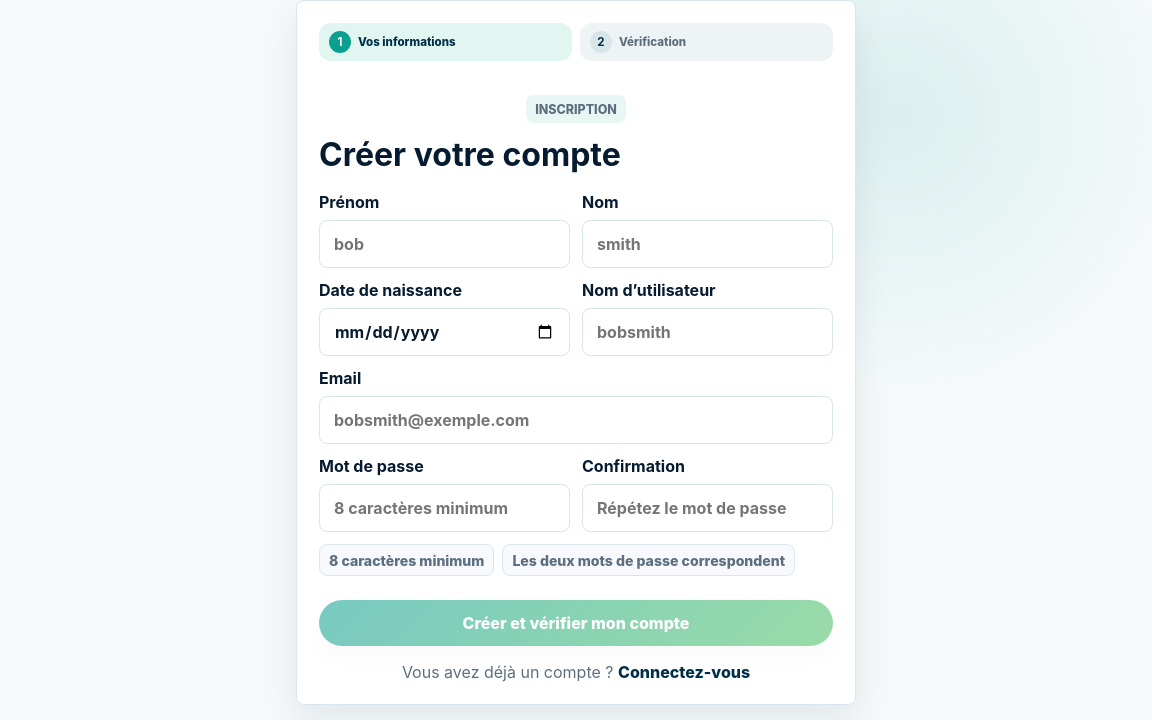
Test: RegisterPage › montre et centre le défi antirobot pendant que Clerk attend sa validation
Type "Alice" into the field labelled "Prénom".
click(444, 244); type("Alice")  # box [319,220,570,268]
Type "Martin" into the field labelled "Nom".
click(708, 244); type("Martin")  # box [582,220,833,268]
Type "2000-01-01" into the date field labelled "Date de naissance".
click(444, 332); type("2000-01-01")  # box [319,308,570,356]
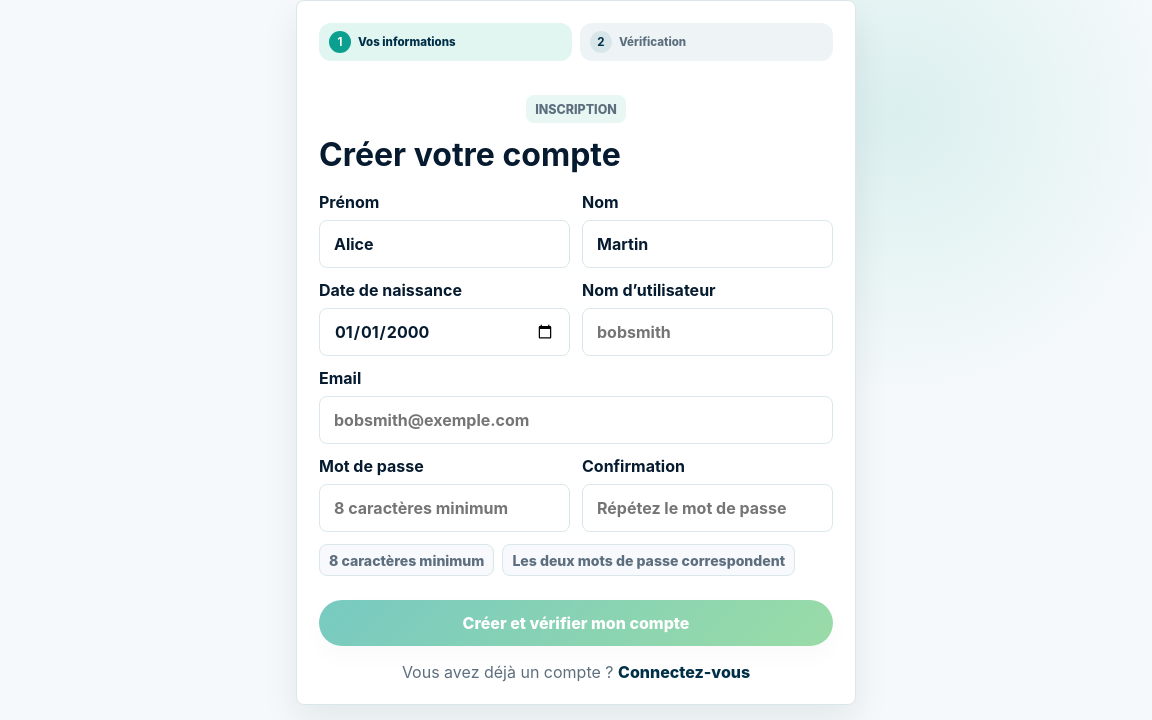
Type "alice_martin" into the field labelled "Nom d’utilisateur".
click(708, 332); type("alice_martin")  # box [582,308,833,356]
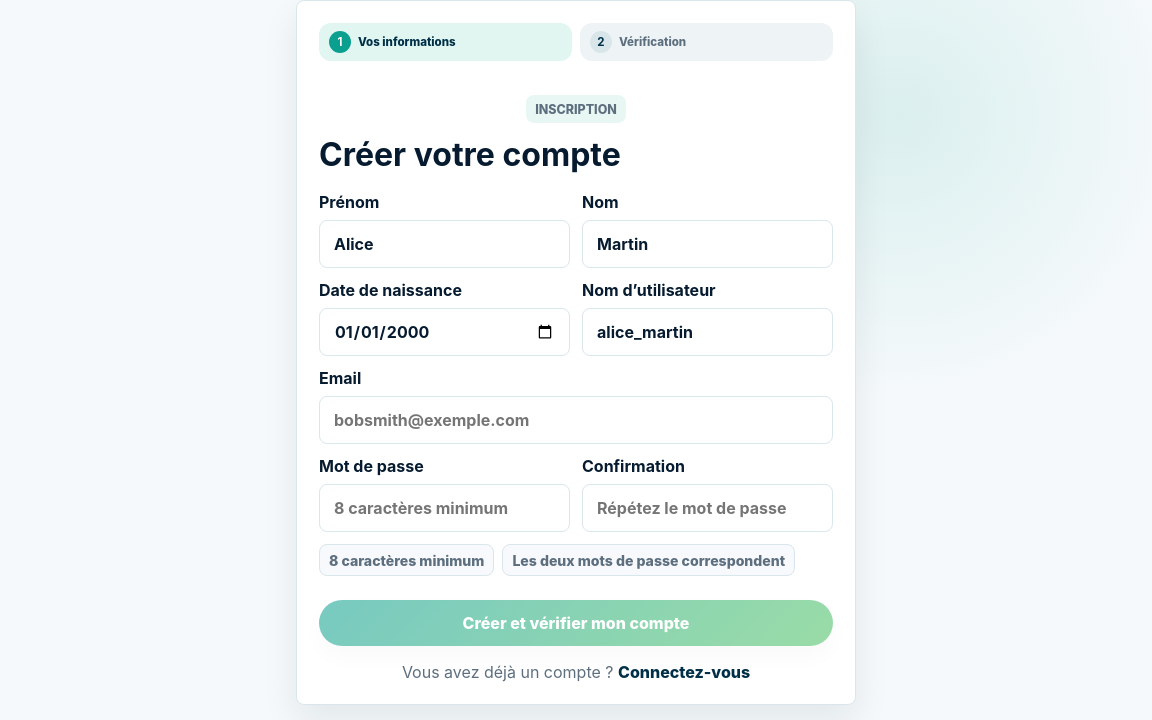
Type "alice@example.com" into the field labelled "Email".
click(576, 420); type("alice@example.com")  # box [319,396,833,444]
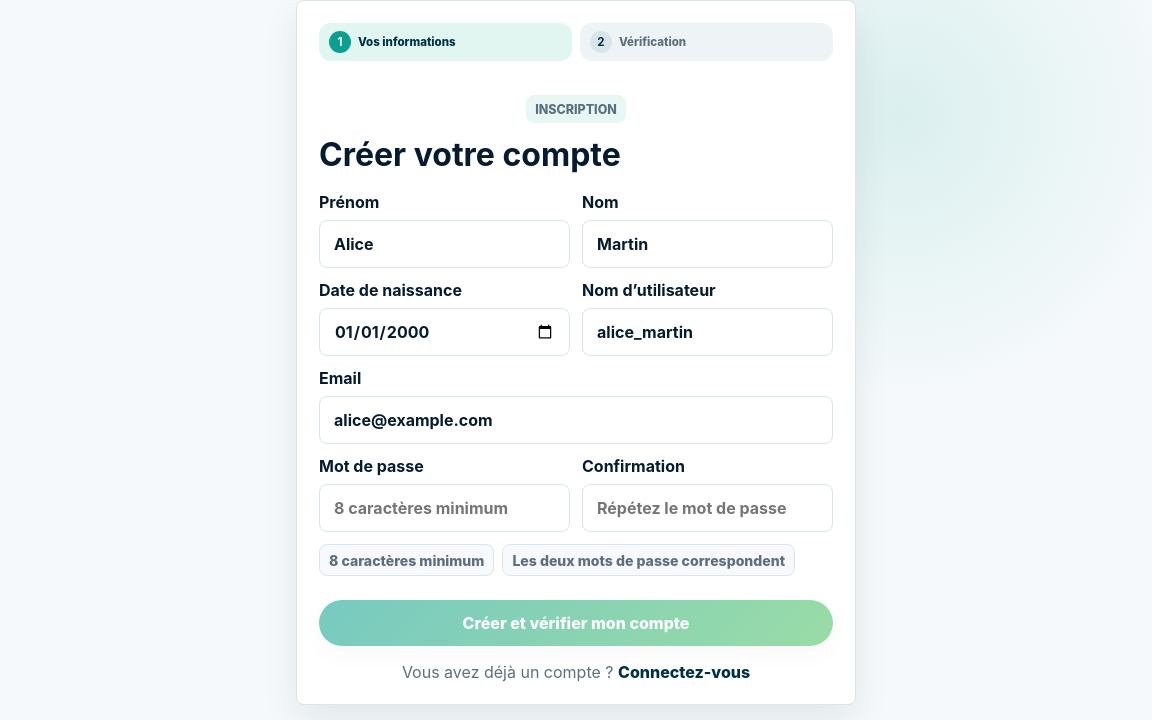
Type "TestOnly-1234567" into the password field labelled "Mot de passe".
click(444, 508); type("TestOnly-1234567")  # box [319,484,570,532]
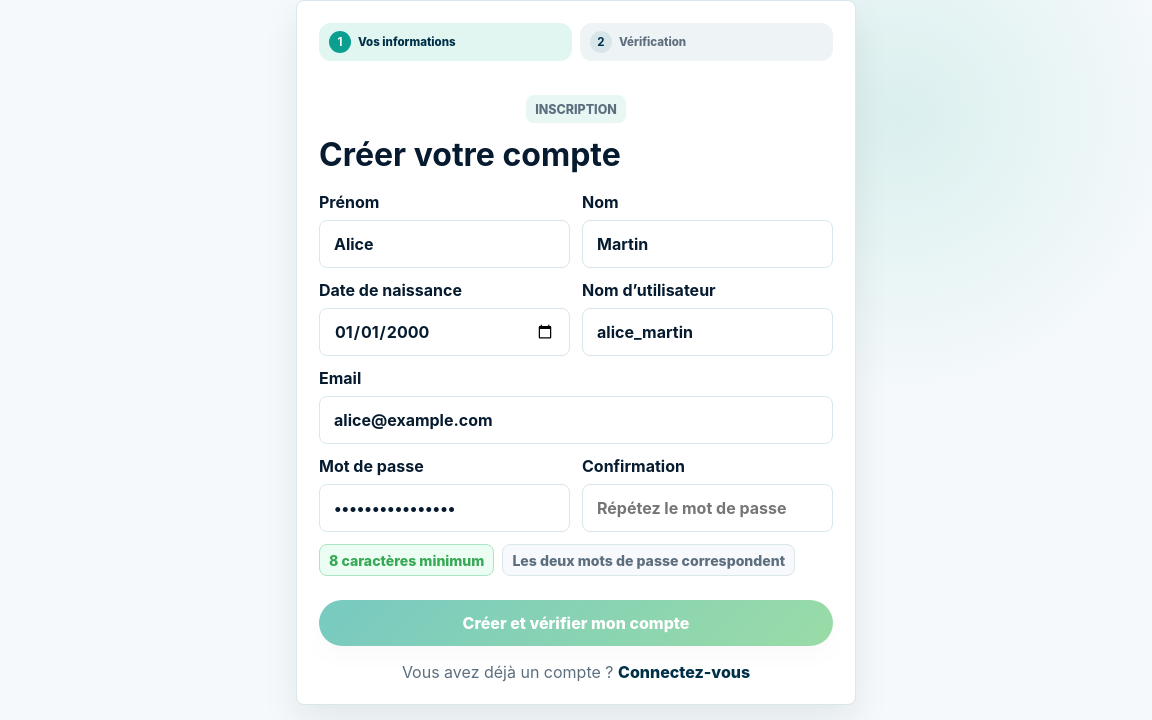
Type "TestOnly-1234567" into the password field labelled "Confirmation".
click(708, 508); type("TestOnly-1234567")  # box [582,484,833,532]
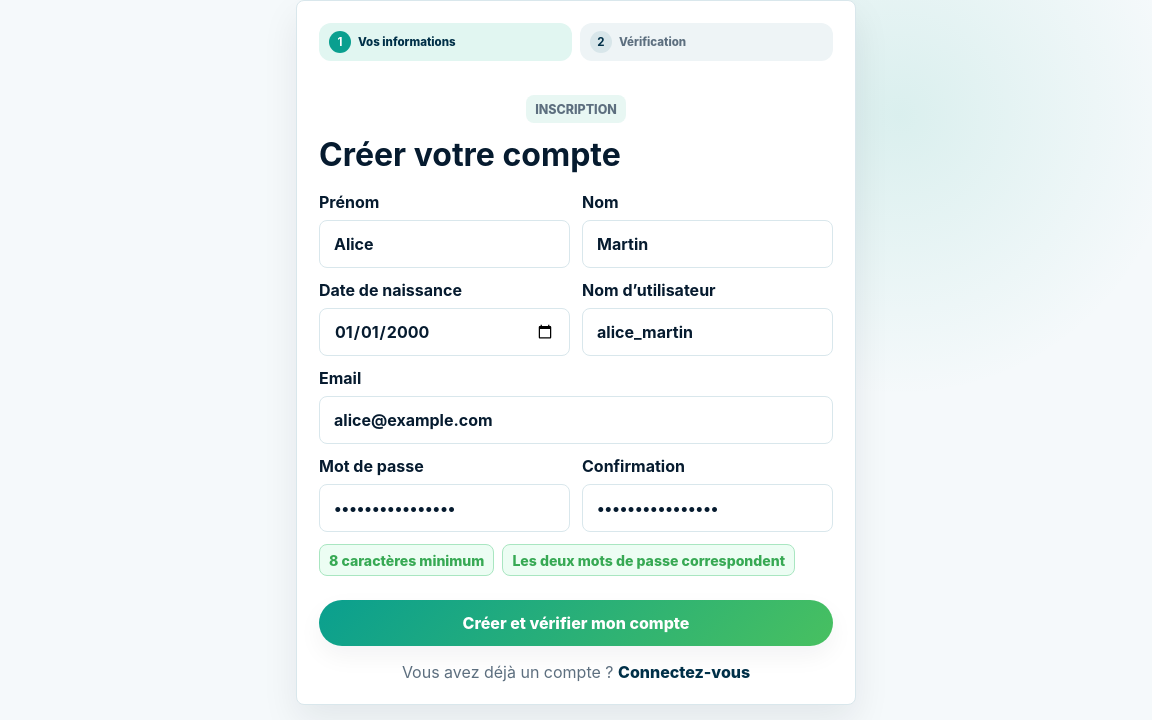
Click the button "Créer et vérifier mon compte".
click(576, 623)  # box [319,600,833,646]
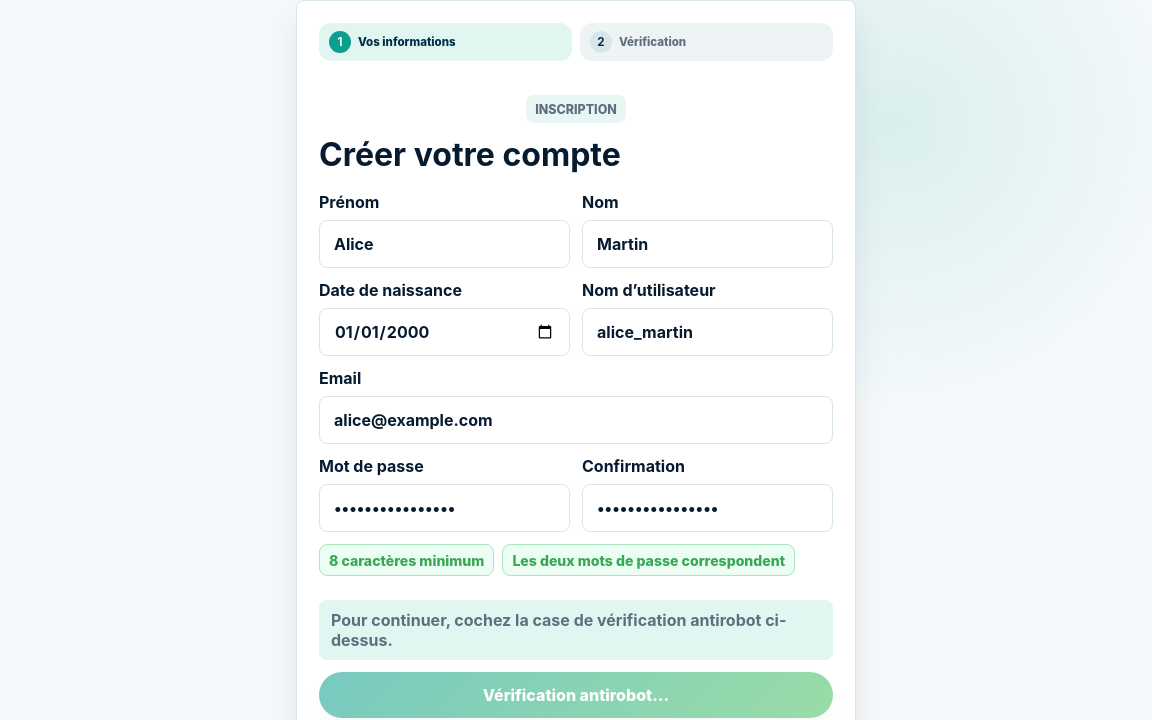
Expected: the message shows "cochez la case de vérification antirobot", [331,610,786,650]
Expected: the button "Vérification antirobot..." is disabled, [319,672,833,718]
